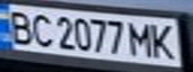0: (69, 15, 93, 52)
2: (51, 12, 75, 52)
7: (87, 16, 109, 54), (106, 17, 127, 55)
B: (3, 7, 36, 45)
C: (27, 11, 57, 47)
K: (145, 20, 181, 61)
M: (127, 19, 157, 57)
